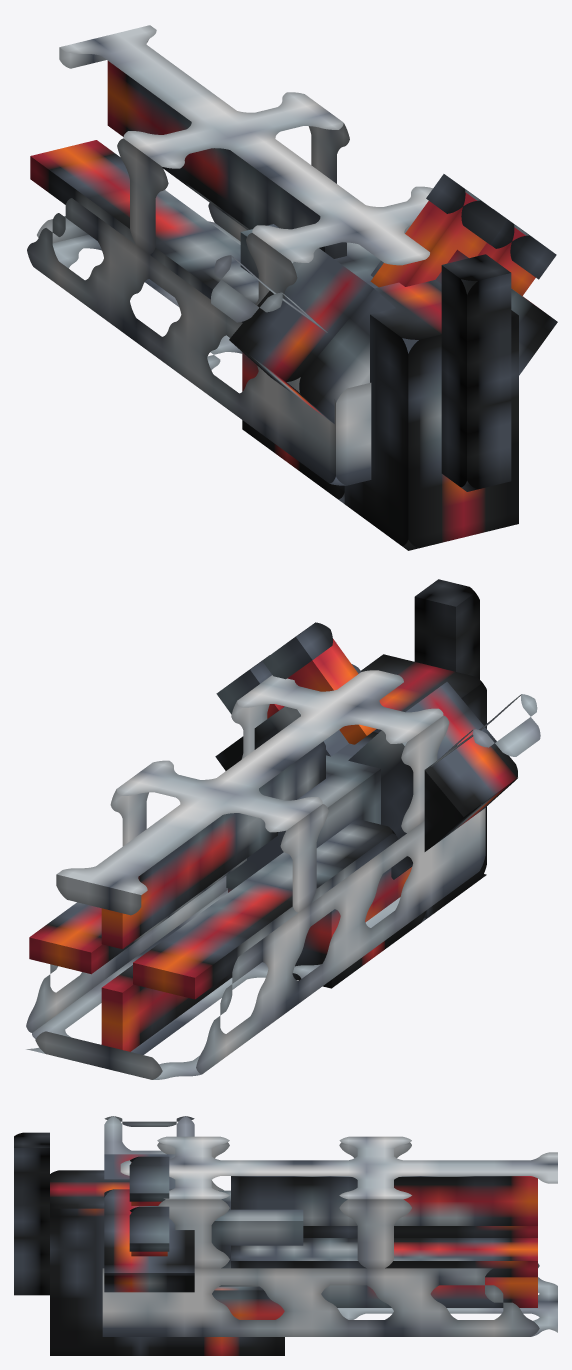
The model's file is laser_gatling.obj.
3 renders of one model, top to bottom at view 1: azimuth 30°, elevation 25°; view 2: azimuth 150°, elevation 25°; view 3: azimuth 270°, elevation 25°, orthographic. The views are drawn at different scales.
Visible parts, largest first — view 1: root, root/gatling, root/handle, root/core_root/core2, root/core_root/core, root/core_root; view 2: root, root/gatling, root/handle, root/core_root/core2, root/core_root, root/core_root/core; view 3: root, root/gatling, root/core_root, root/handle, root/core_root/core, root/core_root/core2.
Boxes of the visible parts, left/top/right/bottom form: root: left=27, top=25, right=518, bottom=550; root/gatling: left=30, top=61, right=380, bottom=322; root/handle: left=211, top=248, right=418, bottom=423; root/core_root/core2: left=370, top=174, right=507, bottom=287; root/core_root/core: left=477, top=209, right=556, bottom=295; root/core_root: left=371, top=225, right=557, bottom=375; root: left=26, top=579, right=486, bottom=1079; root/gatling: left=29, top=732, right=398, bottom=1051; root/handle: left=348, top=682, right=540, bottom=879; root/core_root/core2: left=262, top=622, right=376, bottom=744; root/core_root: left=215, top=664, right=361, bottom=770; root/core_root/core: left=216, top=655, right=284, bottom=718; root: left=14, top=1132, right=557, bottom=1355; root/gatling: left=211, top=1176, right=537, bottom=1307; root/core_root: left=104, top=1189, right=194, bottom=1292; root/handle: left=104, top=1116, right=194, bottom=1189; root/core_root/core: left=129, top=1206, right=169, bottom=1256; root/core_root/core2: left=129, top=1156, right=169, bottom=1205.
Size of the model in its own units: 14.4 by 12.37 by 30.1.
Materials: 1 (1 with a texture image).
